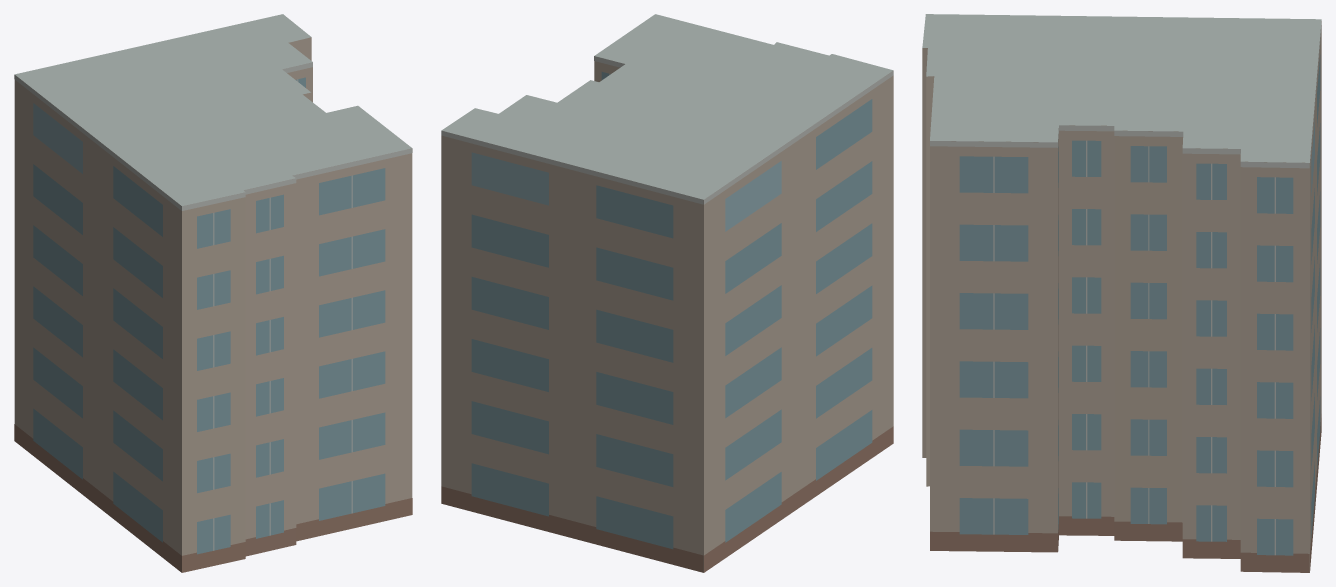
The model's file is survey-upis-32736567.glb.
3 views of the same model, side by side, from view 1: azimuth 30°, elevation 25°; view 2: azimuth 150°, elevation 25°; view 3: azimuth 270°, elevation 25° (orthographic). The views are drawn at different scales.
Visible parts, largest first — view 1: survey-upis-32736567.tmp; view 2: survey-upis-32736567.tmp; view 3: survey-upis-32736567.tmp.
Boxes of the visible parts, bbox=[...] form: survey-upis-32736567.tmp: bbox=[14, 14, 412, 572]; survey-upis-32736567.tmp: bbox=[441, 14, 893, 572]; survey-upis-32736567.tmp: bbox=[922, 14, 1321, 572].
Size of the model in its own units: 14.26 by 18.3 by 16.16.
